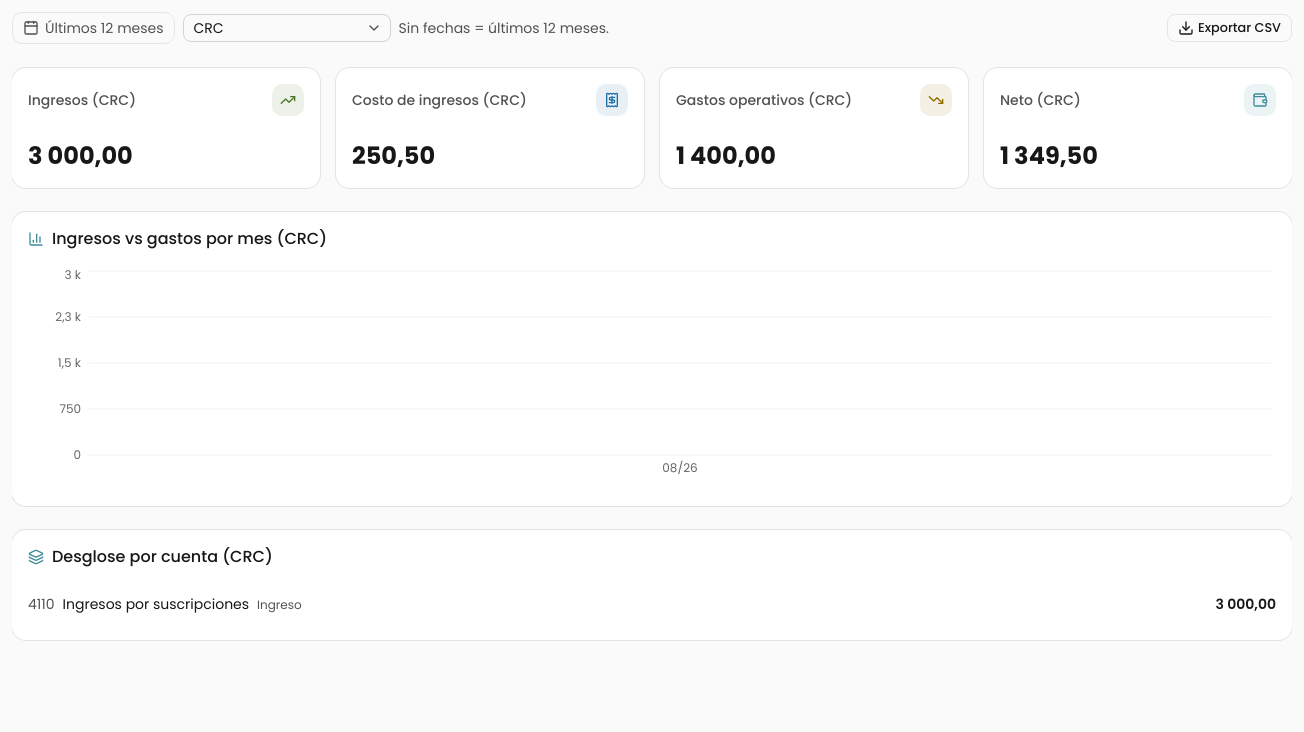
Scenario: PnlDashboard — consolidado a una moneda › etiqueta con qué tasa y de qué fecha convirtió
Click the dropdown named "Moneda" at (286, 28), box [182, 14, 390, 42]
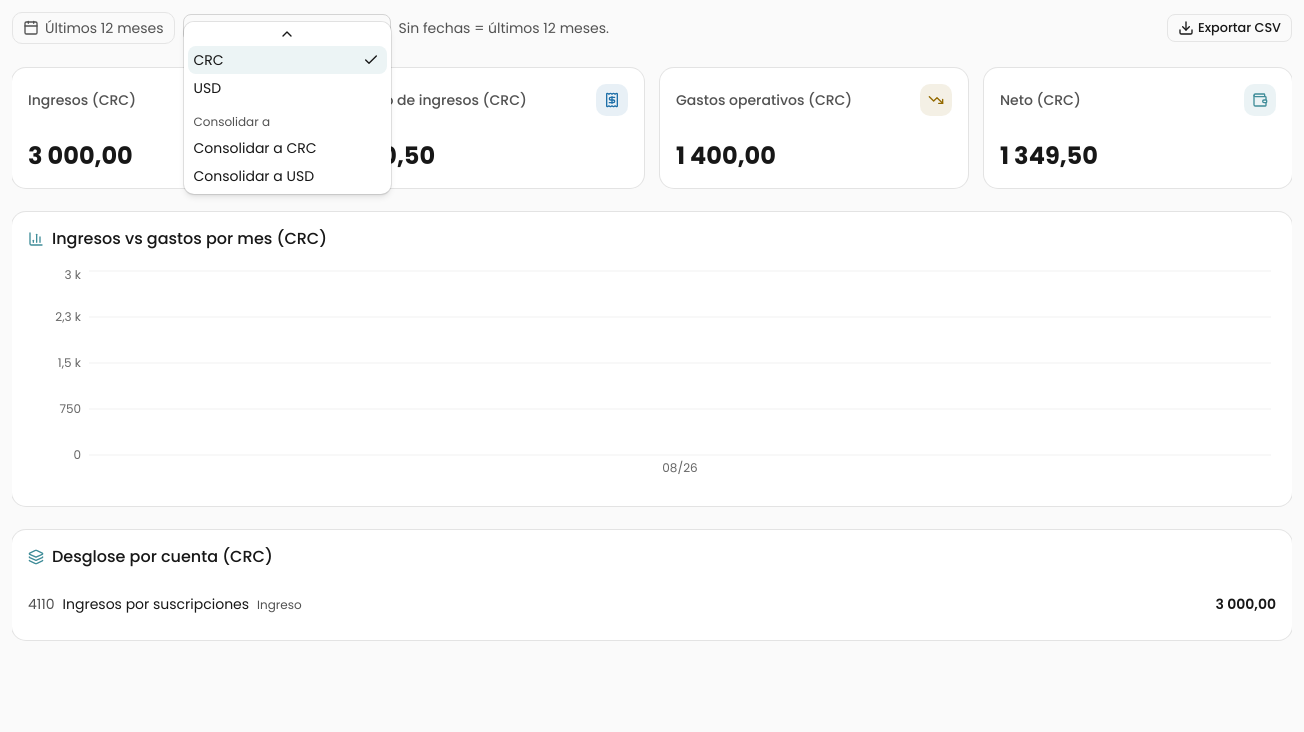
Click the option "Consolidar a USD" at (254, 176), box [194, 166, 314, 186]
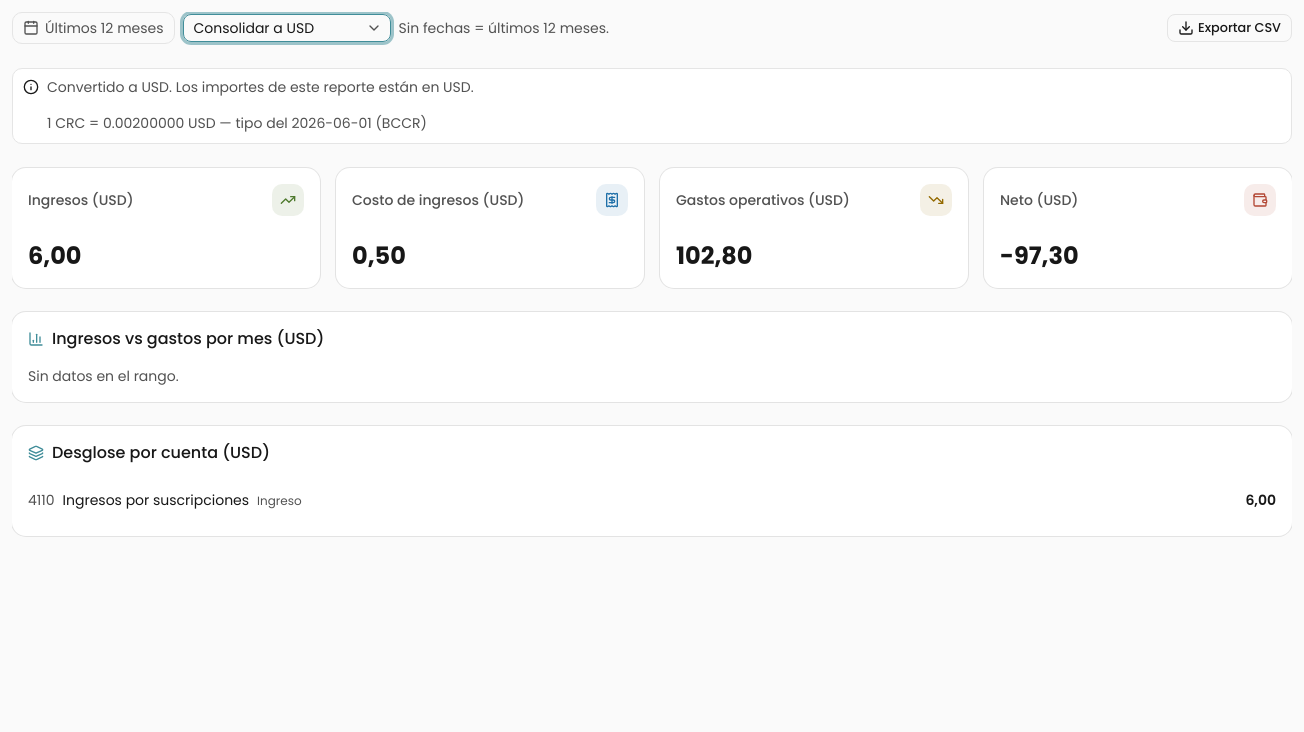
Result: the list item "1 CRC = 0.00200000 USD — tipo del 2026-06-01 (BCCR)" is shown at [47, 113, 427, 133]
Result: the text "Ingresos (USD)" shows "6,00" at [28, 239, 82, 272]
